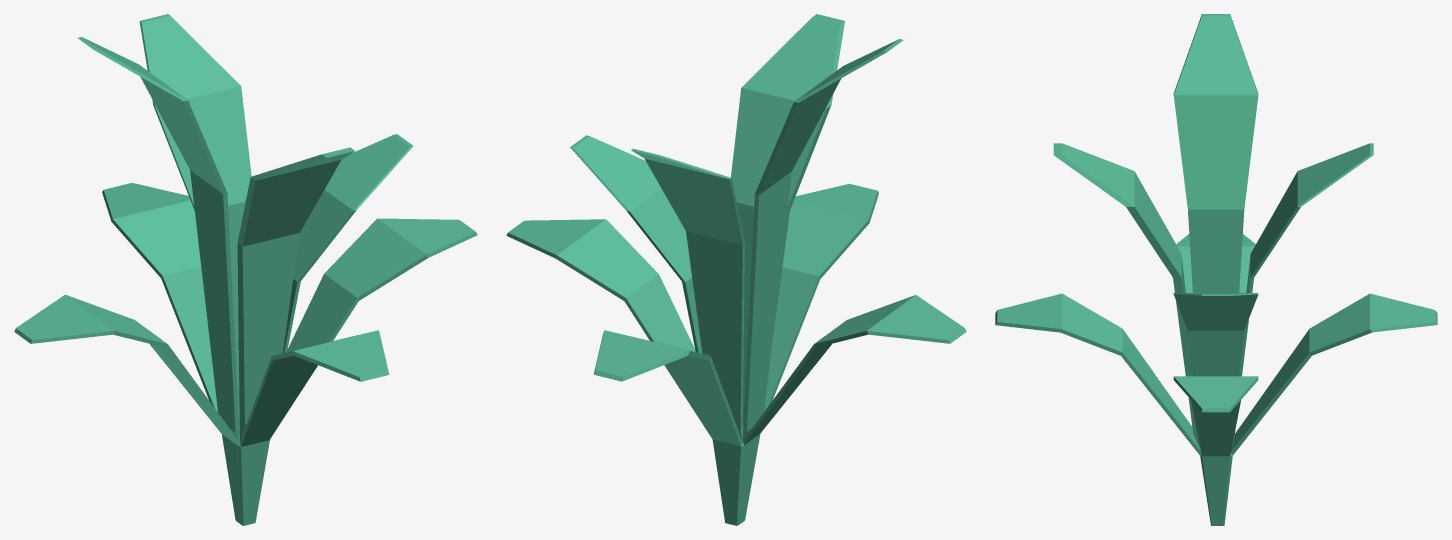
Rendered from radishGreen.obj.
The picture shows the model from 3 angles, left to right: view 1: azimuth 30°, elevation 25°; view 2: azimuth 150°, elevation 25°; view 3: azimuth 270°, elevation 25°; orthographic projection. The views are drawn at different scales.
Parts seen in each view (by area): view 1: carrotGreen; view 2: carrotGreen; view 3: carrotGreen.
Part boxes in pixels (left/top/right/bottom): carrotGreen: left=14, top=14, right=477, bottom=525; carrotGreen: left=506, top=14, right=966, bottom=525; carrotGreen: left=995, top=14, right=1437, bottom=525.
Size of the model in its own units: 0.3457 by 0.3825 by 0.3466.
